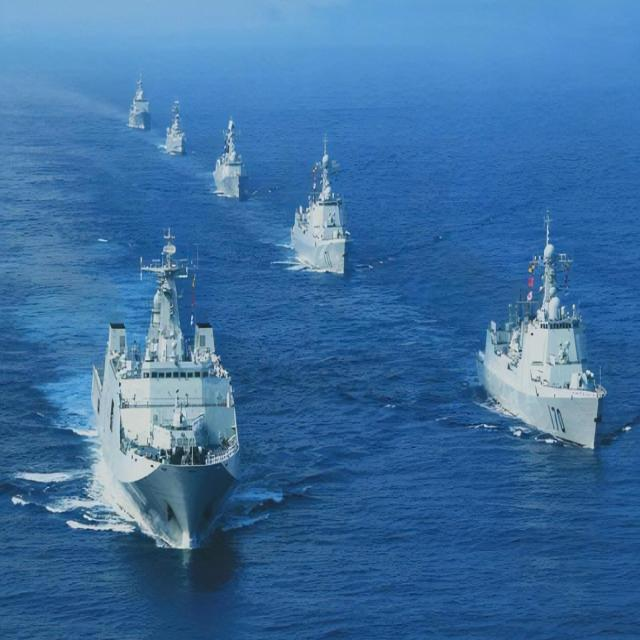navalvessels: (75, 232, 247, 542), (459, 210, 603, 452), (280, 138, 348, 282), (215, 117, 250, 195), (111, 74, 153, 135), (164, 88, 191, 160)
